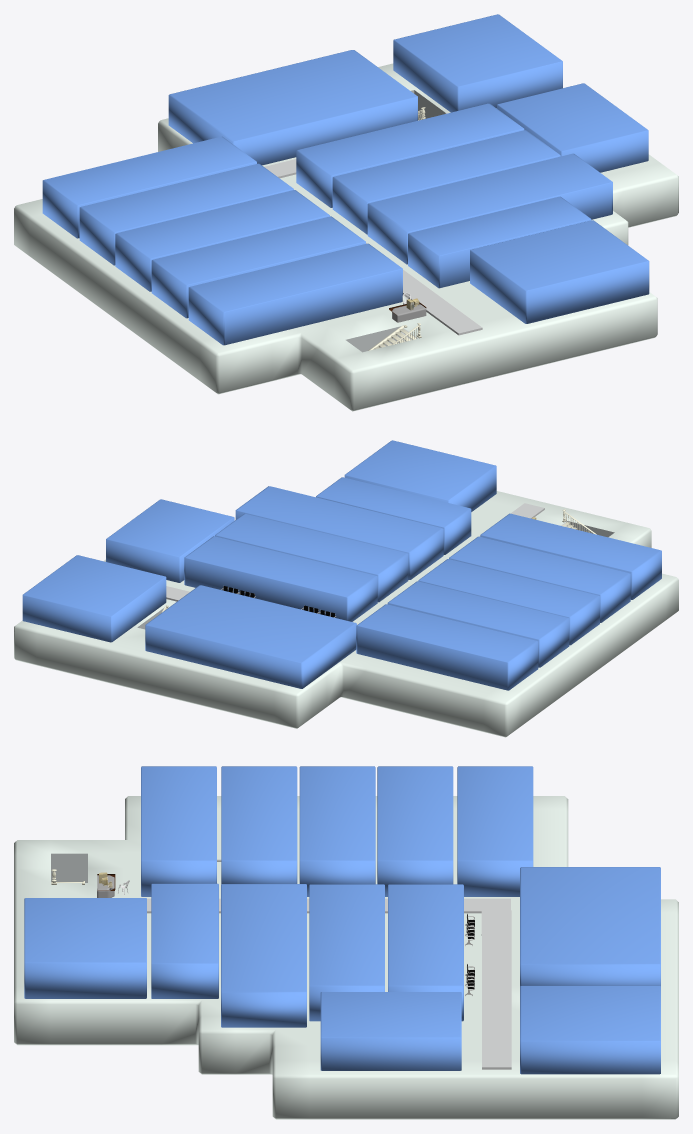
Rendered from 1764510843_Alaminos_2nd_floor_merged.glb.
3 views of the same model, one above another, from view 1: azimuth 30°, elevation 25°; view 2: azimuth 150°, elevation 25°; view 3: azimuth 270°, elevation 25° (orthographic). The views are drawn at different scales.
Visible parts, largest first — view 1: City Information Office, Plane.003; view 2: City Information Office, Plane.003; view 3: City Information Office, Plane.003.
Boxes of the visible parts, left/top/right/bottom form: City Information Office: left=14, top=14, right=678, bottom=411; Plane.003: left=264, top=159, right=482, bottom=335; City Information Office: left=14, top=440, right=678, bottom=737; Plane.003: left=166, top=503, right=544, bottom=604; City Information Office: left=14, top=766, right=678, bottom=1119; Plane.003: left=147, top=898, right=511, bottom=1069.
Size of the model in its own units: 3.7 by 0.4981 by 3.7.
29 materials, 6 textured.
